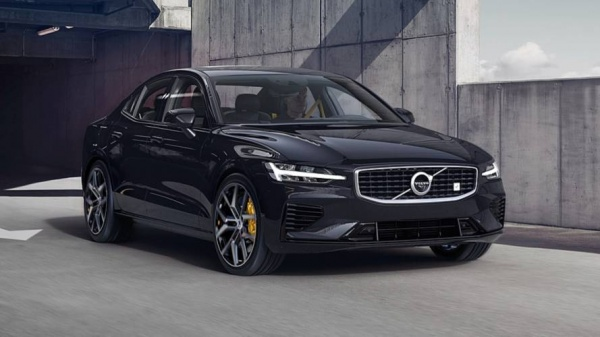sedan: (79, 63, 511, 276)
